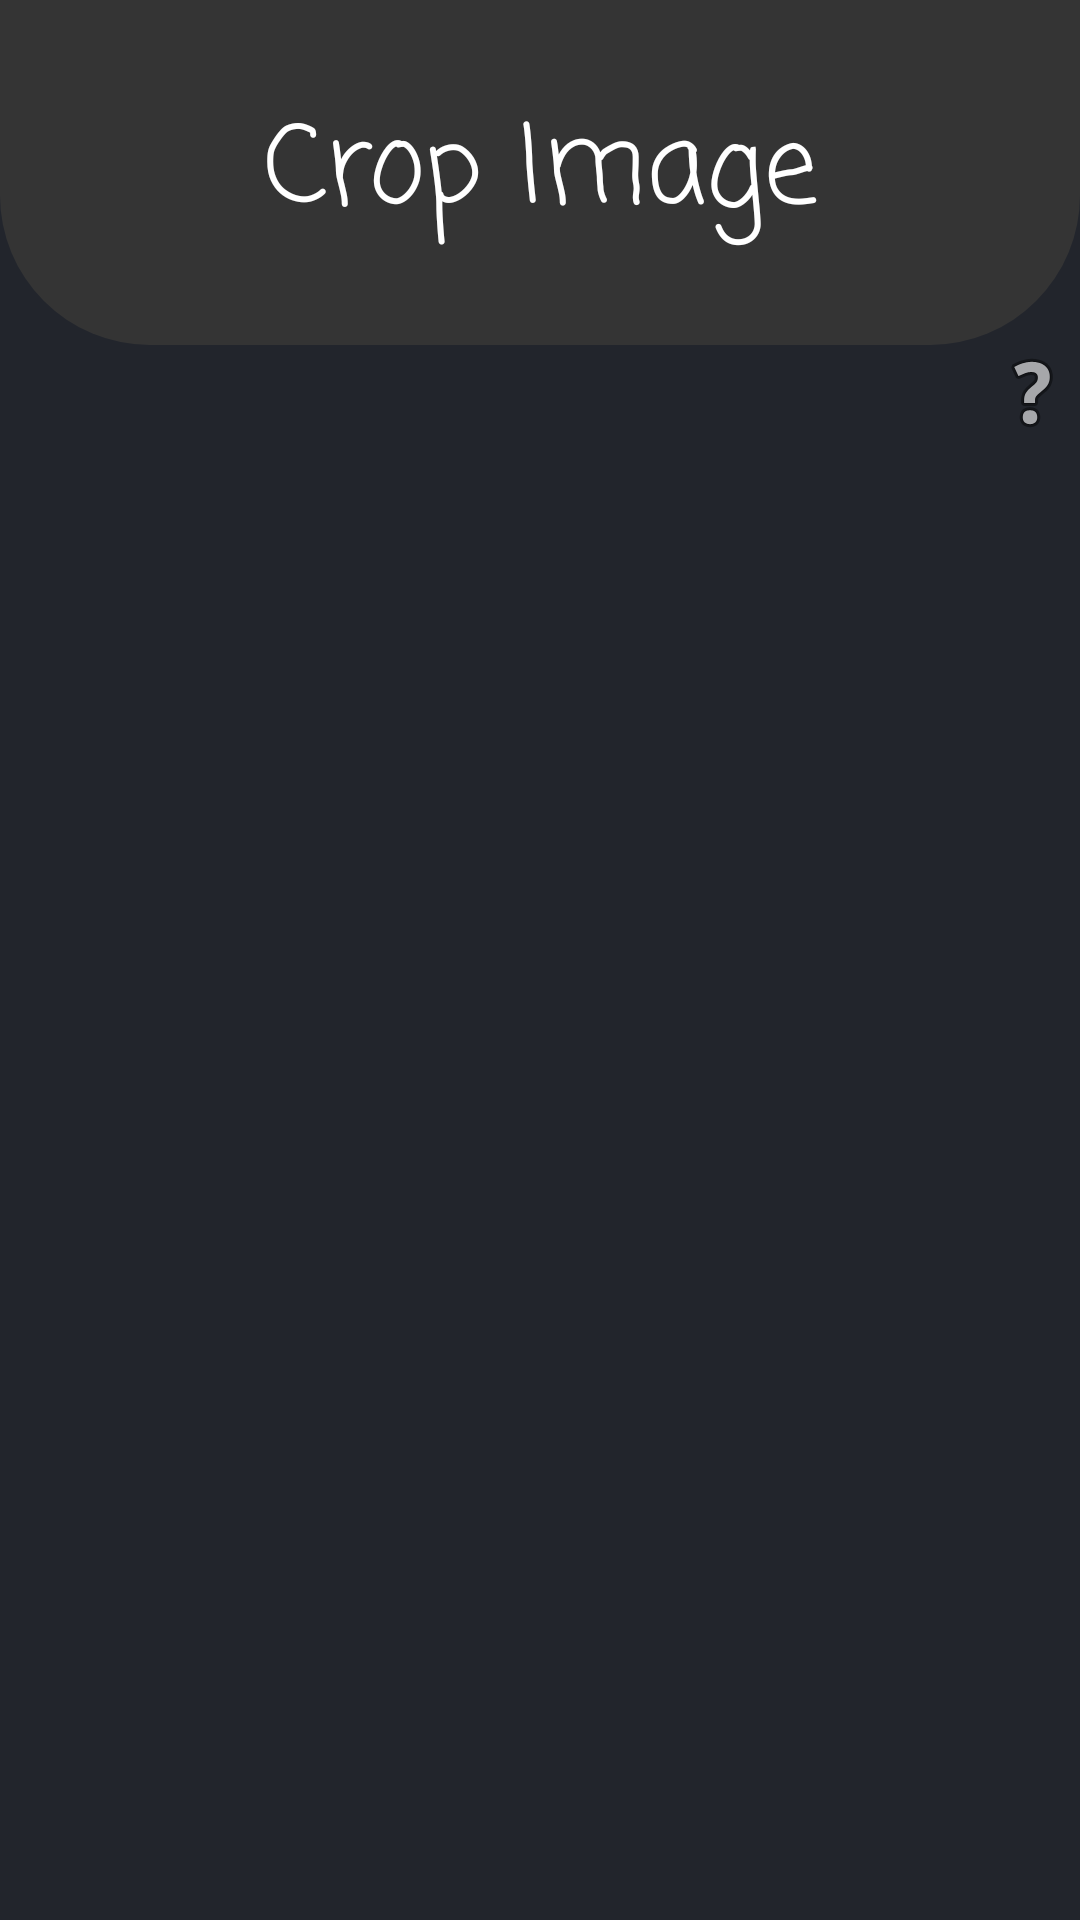

Named icons in this screenshot (1080px×1920px) and their centers, [x,y]:
help: [1032,393]
